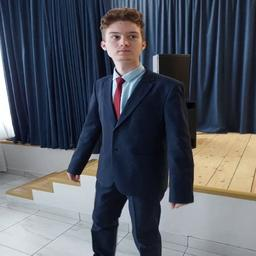person: (66, 8, 193, 256)
